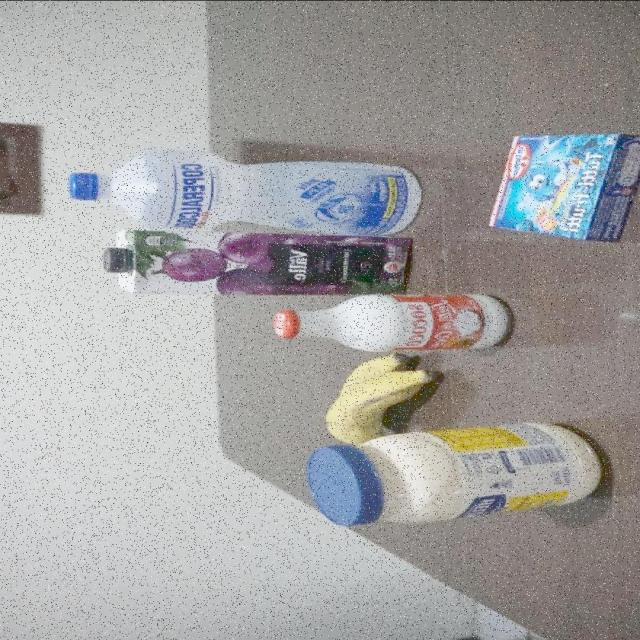AlcoholBottle: (65, 154, 427, 234)
Banana: (316, 353, 435, 430)
CoconutMilk: (274, 294, 516, 351)
Gelatine: (486, 123, 640, 244)
Mayonnaise: (308, 432, 600, 522)
